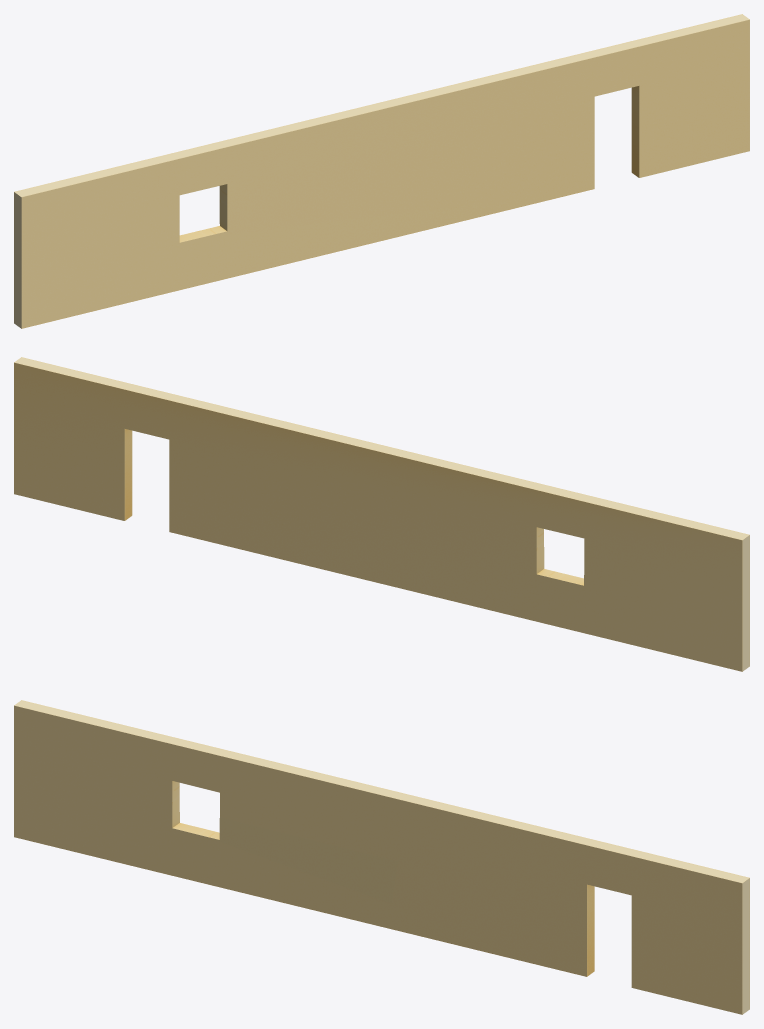
The model's file is Wallmain_Left.fbx.
3 renders of one model, top to bottom at view 1: azimuth 30°, elevation 25°; view 2: azimuth 150°, elevation 25°; view 3: azimuth 330°, elevation 25°, orthographic.
Parts seen in each view (by area): view 1: pCube3; view 2: pCube3; view 3: pCube3.
Part boxes in pixels (x1,y1,x2,y2): pCube3: (14,14,749,328); pCube3: (14,357,749,671); pCube3: (14,700,749,1014).
Size of the model in its own units: 22.66 by 3.91 by 0.4068.
